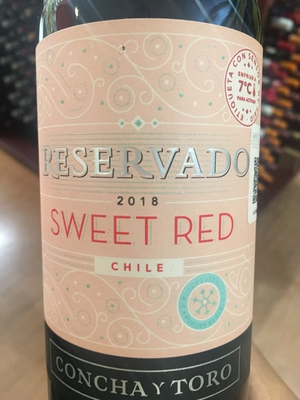reservado sweet red: (32, 12, 265, 400)
